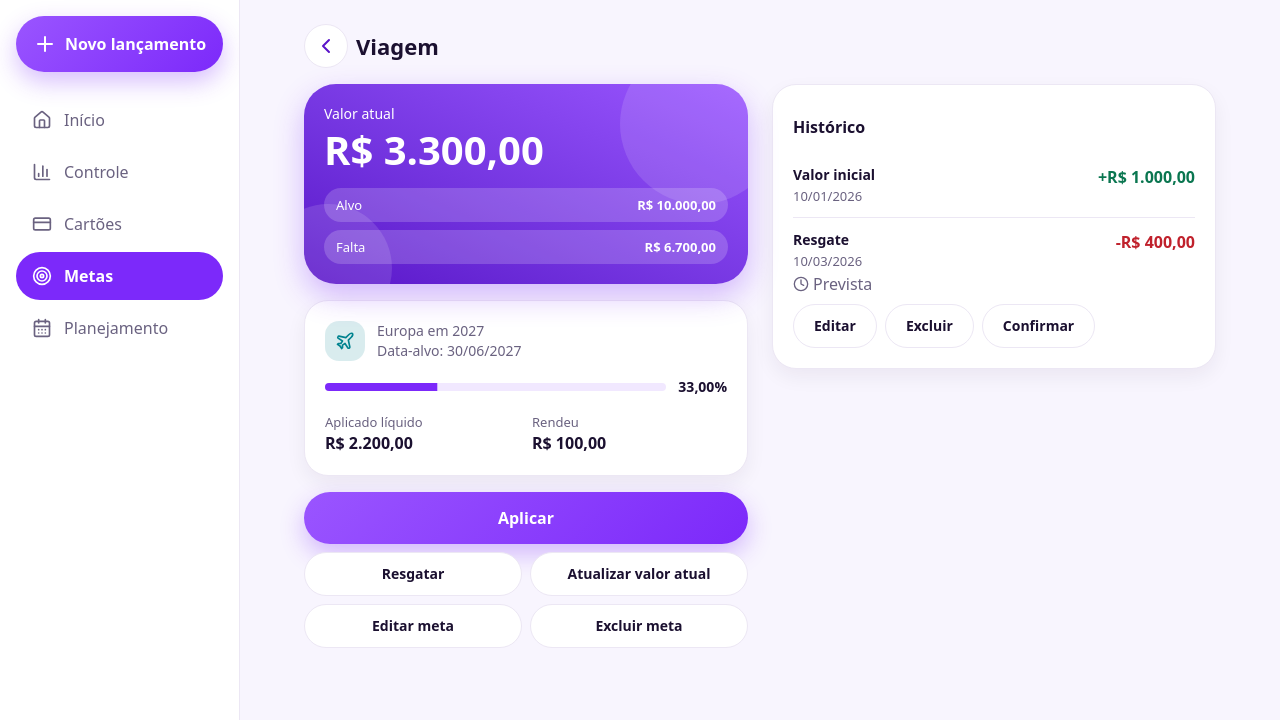
it: DetalheMeta: histórico (CA-6.11) › confirmar um resgate prevista abre o valor sem sinal
The width and height of the screenshot is (1280, 720).
Expected: the heading "Histórico" is shown, [793, 116, 865, 138]
Step 1. Click the button "Confirmar" → (1038,326), box [982, 304, 1095, 348]
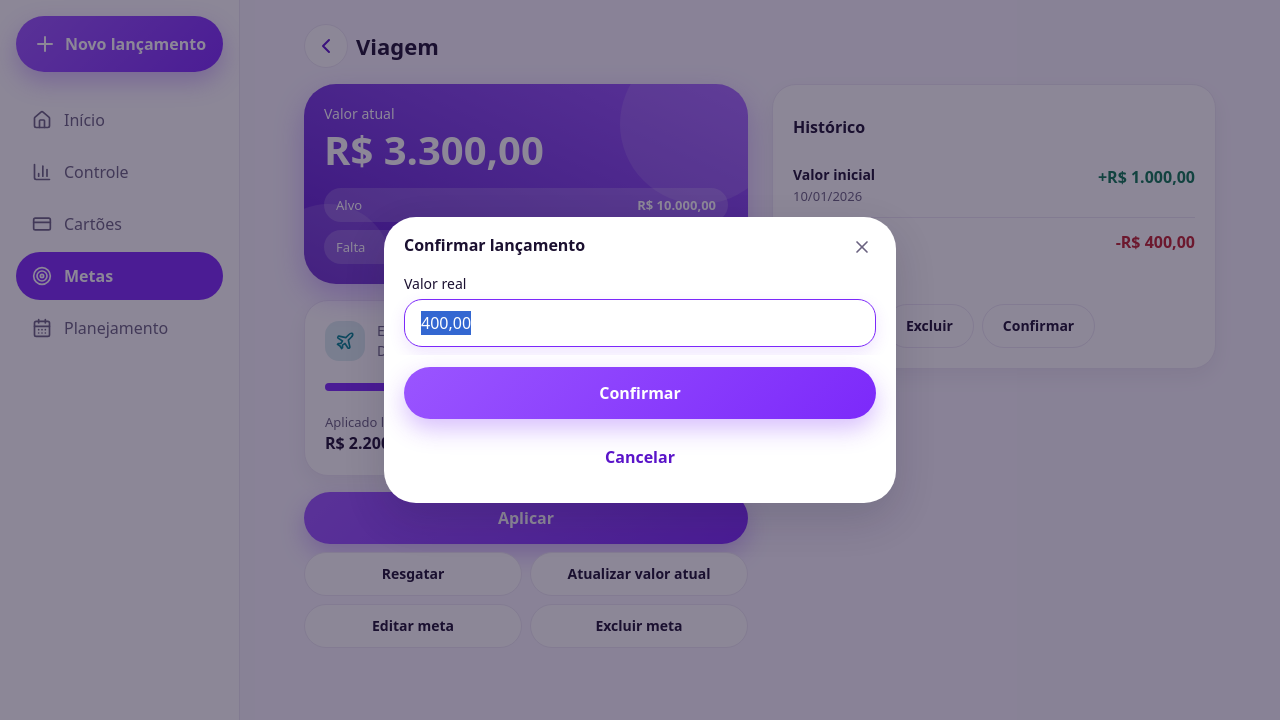
Expected: the field labelled "Valor real" holds "400,00", [404, 299, 876, 347]
